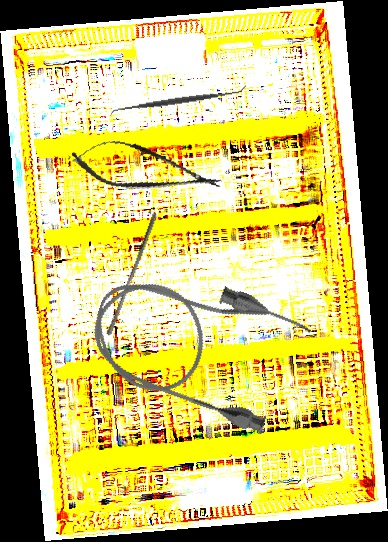Cannula: (77, 249, 316, 440)
Micro Scissor: (67, 131, 226, 207)
Pusher: (105, 209, 159, 339)
Spatula Surgical: (108, 83, 249, 118)
